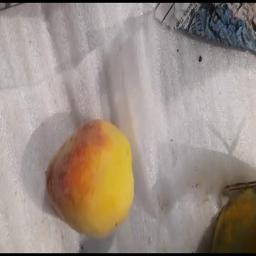Peach Semifresh: (36, 111, 150, 244)
